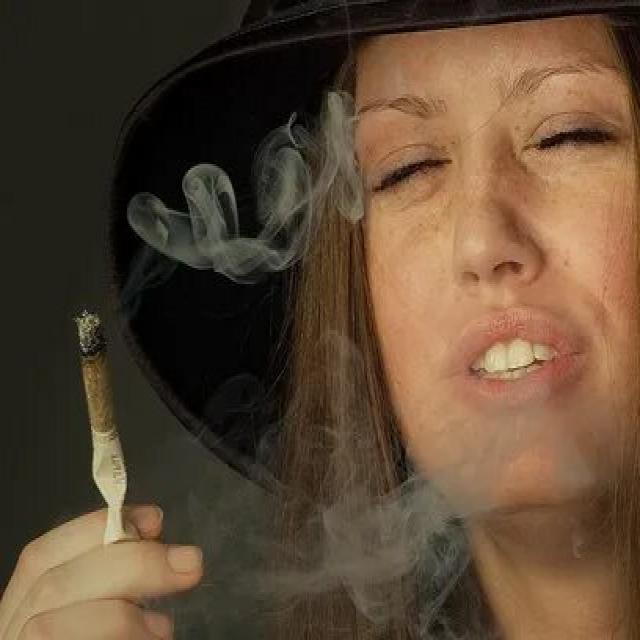cigarette: (68, 304, 152, 566)
